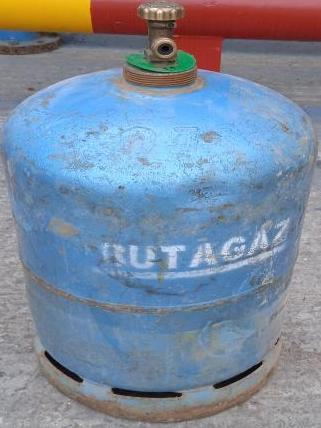cylinder: (0, 1, 321, 428)
